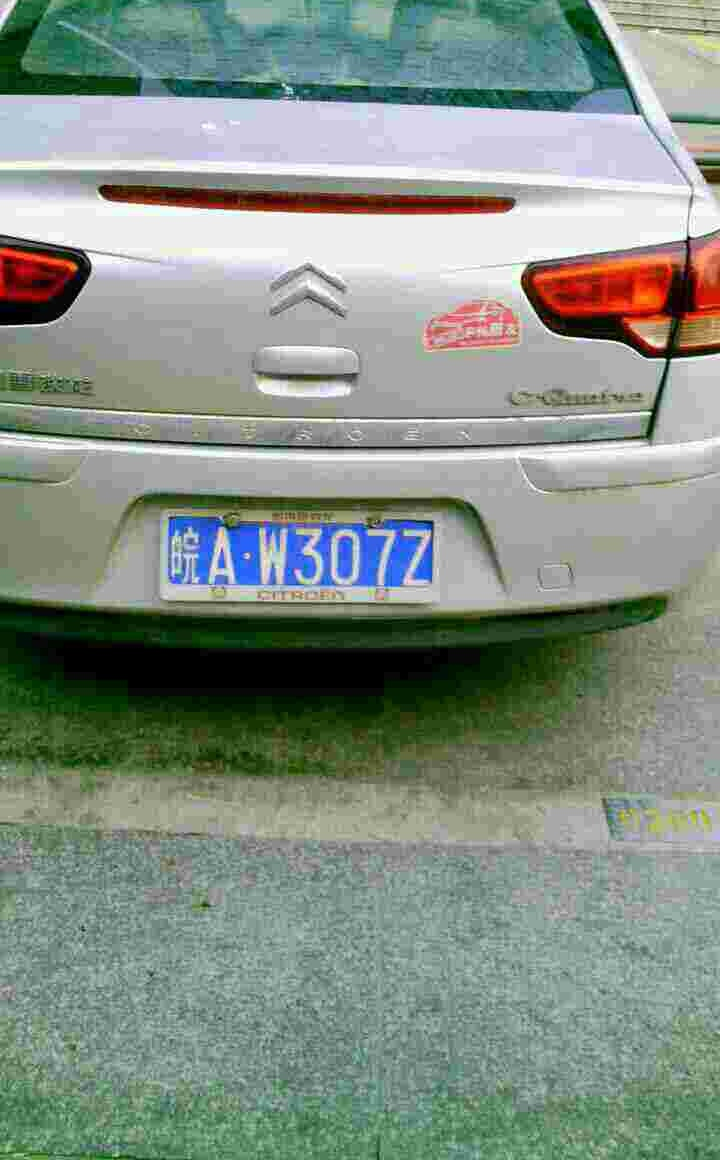license_plate: (178, 527, 442, 587)
